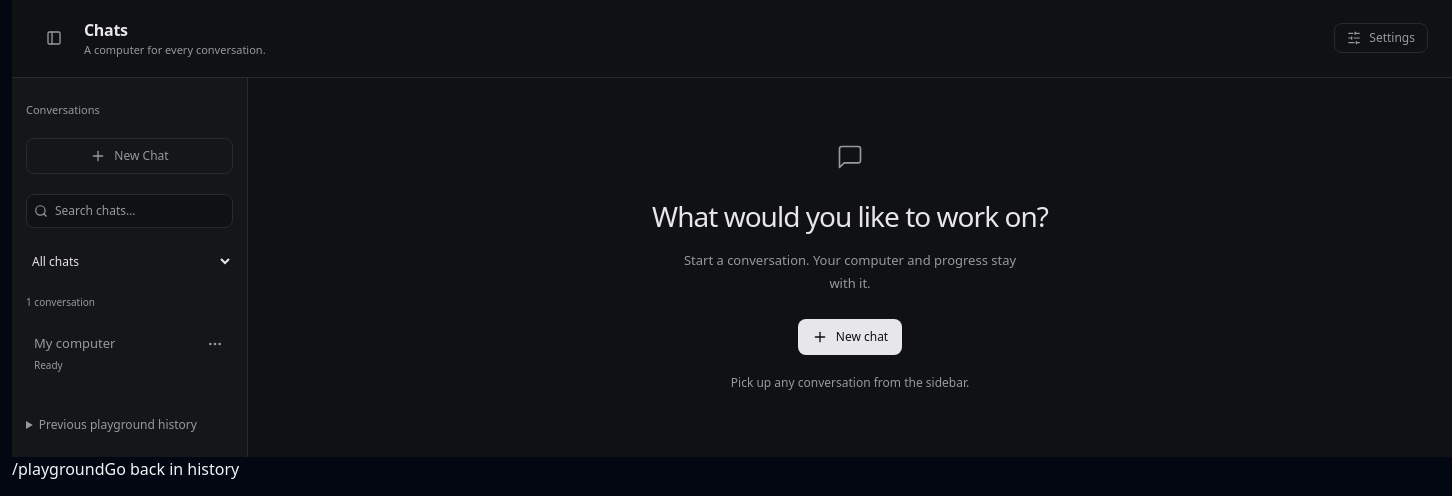
durable chat workspace integration › preserves a selected running computer when the chat is archived
Click the text "My computer" at (75, 344), box [34,334,116,354]
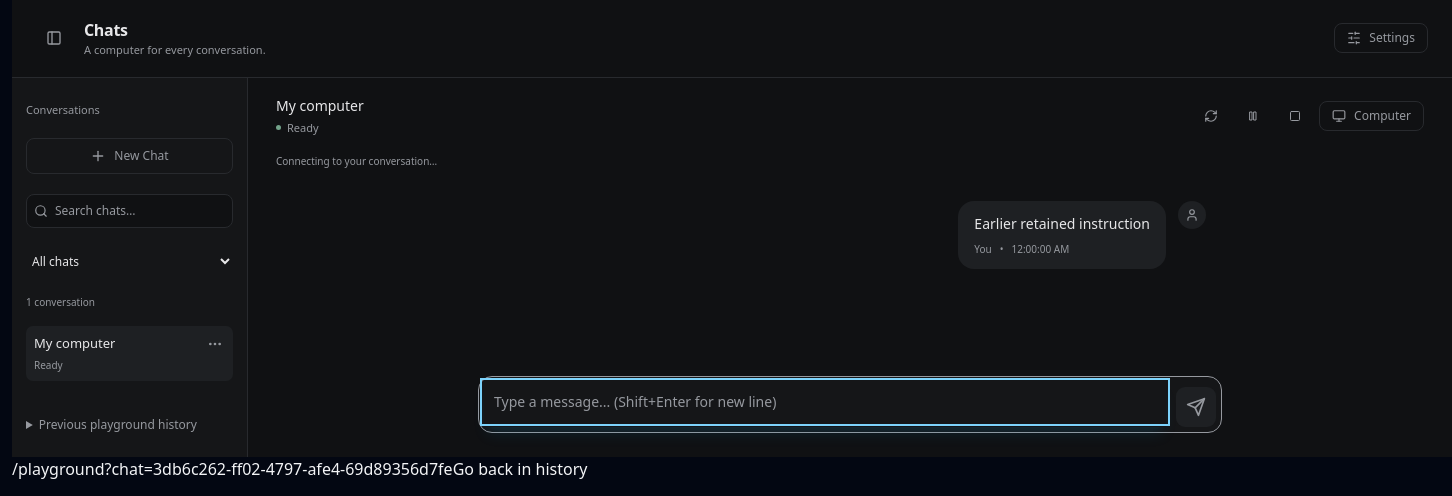
Click the button named "Options for My computer" at (215, 344), box [201,330,229,358]
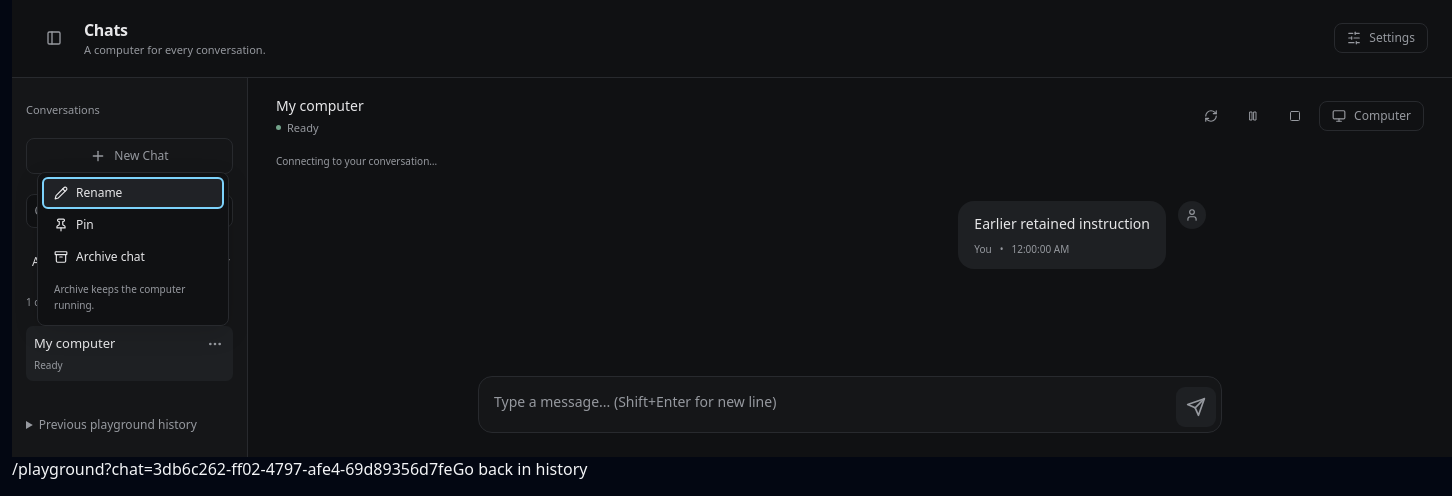
Click the menu item "Archive chat" at (133, 257), box [42,241,224,273]
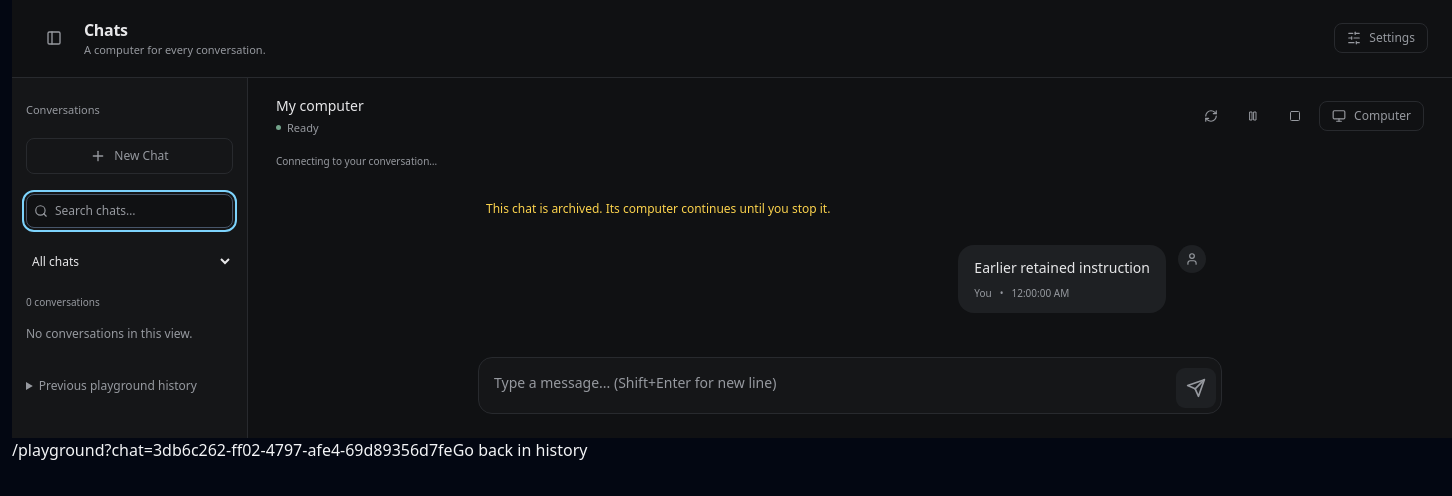
Now the button named "Stop computer" is shown, box [1277,98,1313,134]
Now the text "This chat is archived" is shown, box [486,200,830,217]
